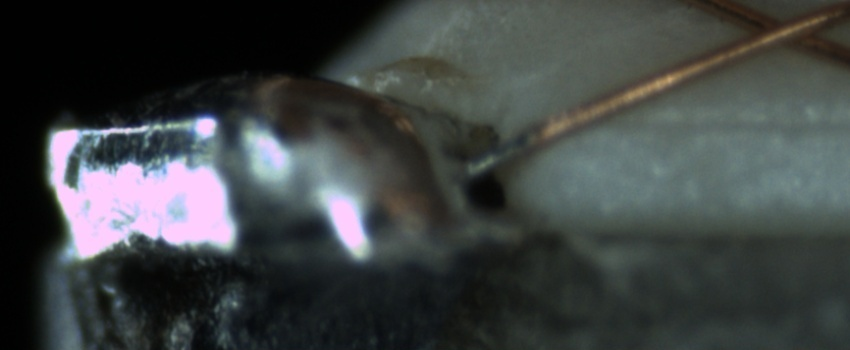CL: (714, 2, 842, 59)
DL: (608, 88, 847, 158)
TS: (461, 131, 534, 181)
